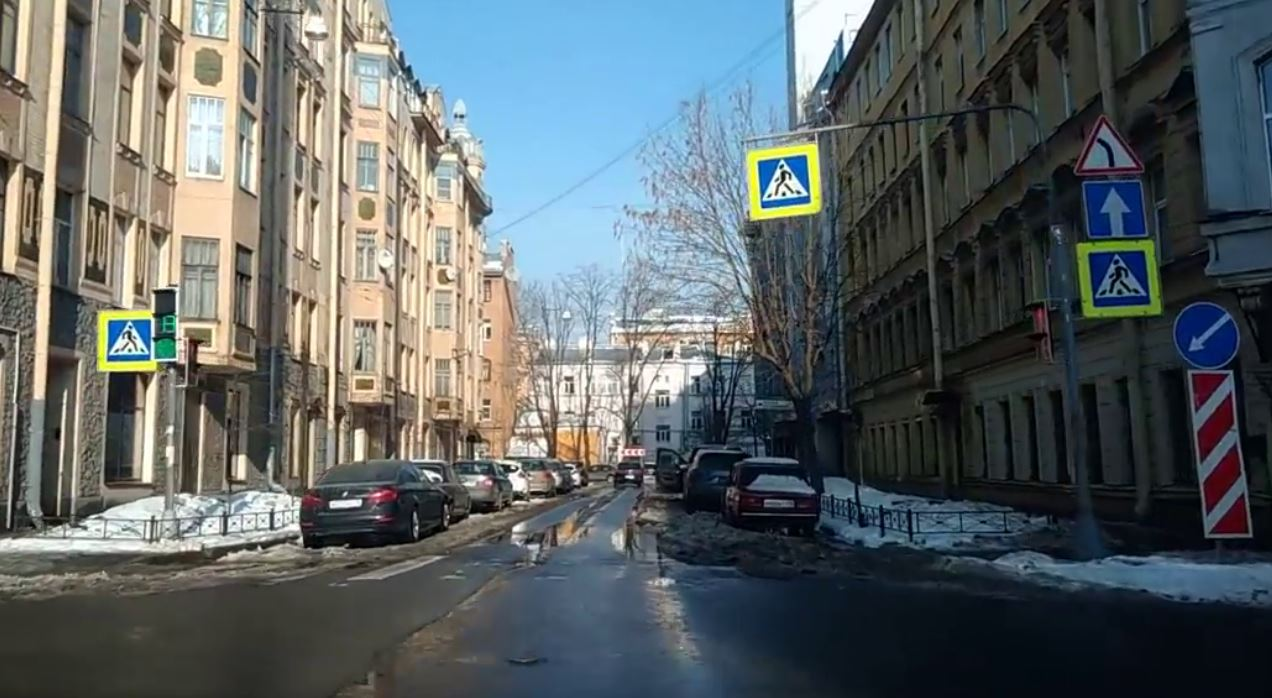Yaya Gecidi: (1089, 253, 1148, 303), (761, 157, 810, 203), (105, 319, 148, 361)
